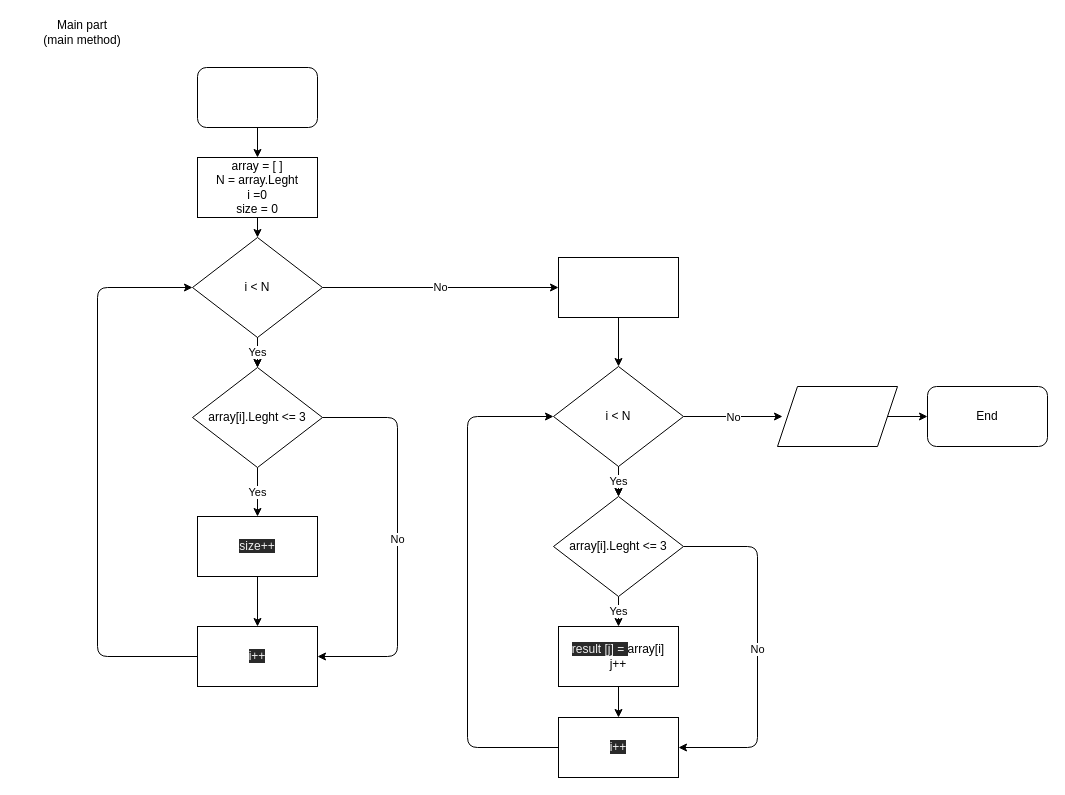
The diagram is 1065 pixels wide and 795 high, and some of its shapes have lost their labels. The shapes that lost their labels are listed below. From the top down, each one's box as (x1, y1, x2, y2) in pixels, then its label:
(196, 66, 318, 128): Start
(558, 256, 678, 318): result = [size] i = 0 j = 0
(776, 386, 898, 446): print (result)
